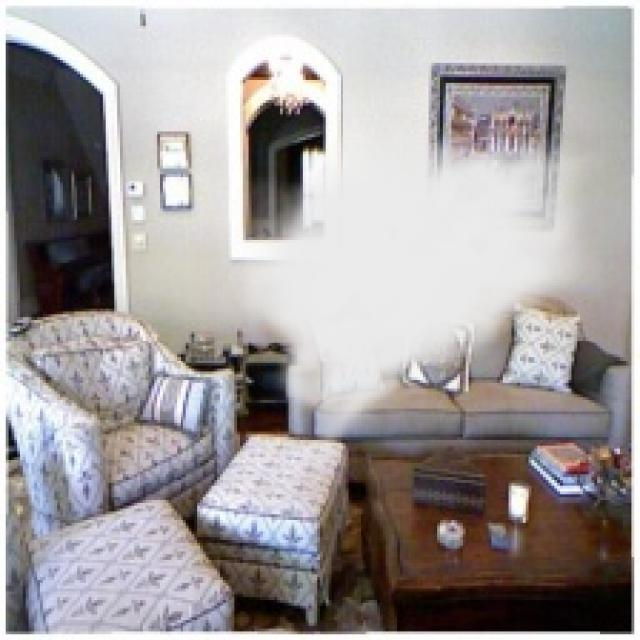smoke: (232, 114, 608, 483)
